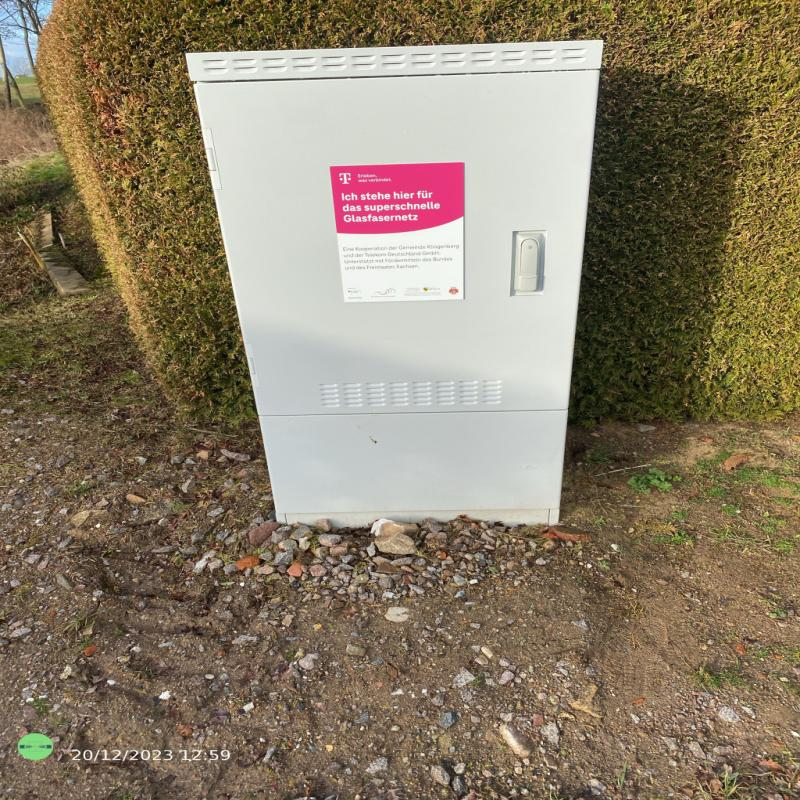NT-Gehause: (188, 39, 605, 524)
Steaker: (334, 166, 465, 300)
